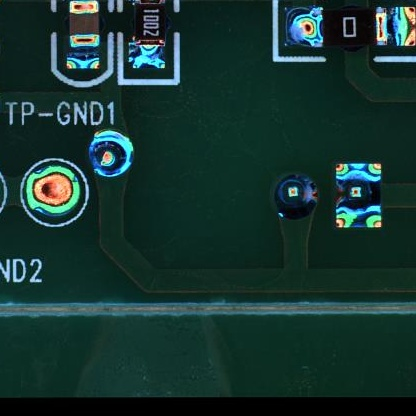spot: (333, 162, 384, 231), (25, 165, 80, 218), (86, 127, 136, 177), (270, 173, 319, 220)
